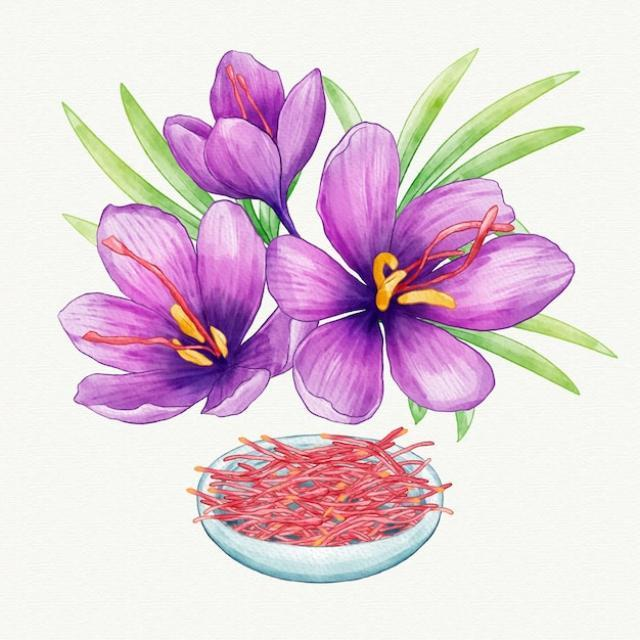Flower: (278, 123, 578, 414), (46, 196, 293, 423), (152, 44, 332, 198)
stigma: (101, 226, 222, 330), (414, 200, 521, 284), (210, 58, 276, 137), (78, 329, 208, 357)
